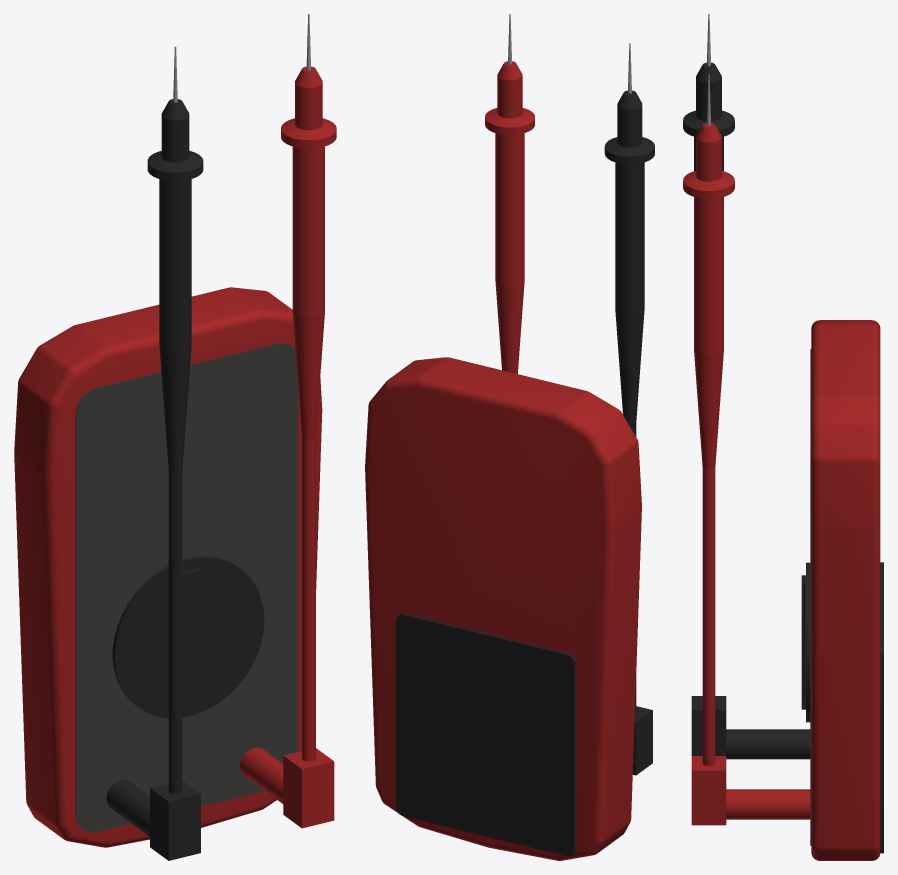
File: multimeter__c865f487894b.glb
The picture shows the model from 3 angles, left to right: view 1: azimuth 30°, elevation 25°; view 2: azimuth 150°, elevation 25°; view 3: azimuth 270°, elevation 25°; orthographic projection. The views are drawn at different scales.
Visible parts, largest first — view 1: dark_face, red_housing, probe.001, probe, selector, selector_handle; view 2: red_housing, back_inset, probe.001, probe; view 3: red_housing, probe, probe.001, back_inset, dark_face, selector, selector_handle.
Part boxes in pixels (left/top/right/bottom): dark_face: left=75, top=343, right=298, bottom=832; red_housing: left=14, top=287, right=322, bottom=847; probe.001: left=106, top=99, right=203, bottom=860; probe: left=240, top=66, right=336, bottom=828; selector: left=112, top=556, right=264, bottom=718; selector_handle: left=182, top=568, right=201, bottom=709; red_housing: left=365, top=357, right=641, bottom=860; back_inset: left=396, top=613, right=575, bottom=856; probe.001: left=604, top=90, right=654, bottom=775; probe: left=485, top=61, right=534, bottom=373; red_housing: left=811, top=320, right=880, bottom=860; probe: left=683, top=123, right=810, bottom=825; probe.001: left=683, top=62, right=810, bottom=759; back_inset: left=880, top=562, right=883, bottom=853; dark_face: left=810, top=349, right=811, bottom=845; selector: left=806, top=562, right=810, bottom=722; selector_handle: left=801, top=575, right=805, bottom=709.
Size of the model in its own units: 0.0687 by 0.2 by 0.0465.
